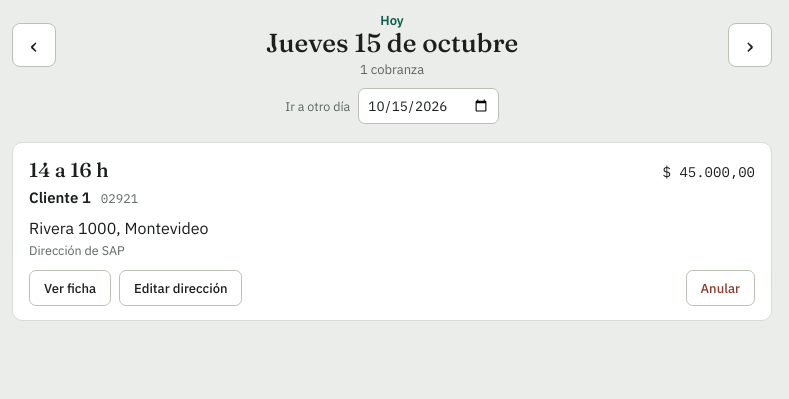
it: CobranzaPage › editar dirección › guarda, muestra la nueva dirección con su origen y devuelve el foco al botón
Click the button "Editar dirección".
click(181, 288)  # box [119,270,242,306]
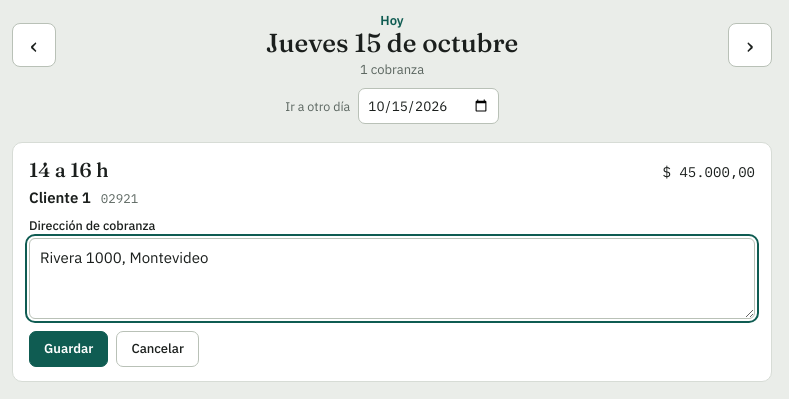
Replace the text in the text box labelled "Dirección de cobranza" with "  Colonia 900, apto 2 " at (392, 278), box [29,238,755,319]
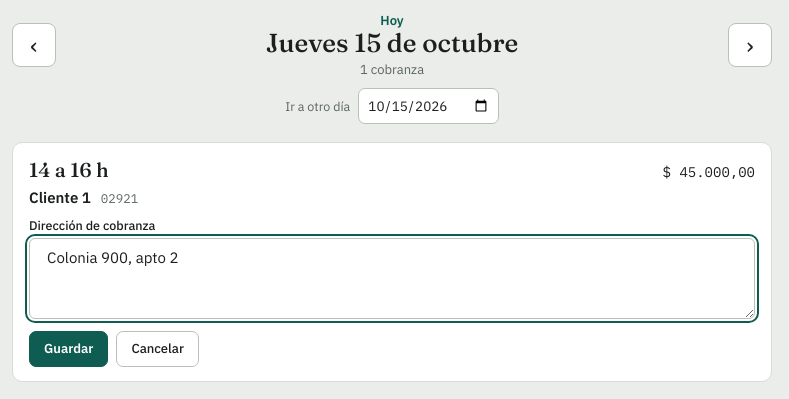
Click the button "Guardar".
click(69, 349)  # box [29,331,108,367]
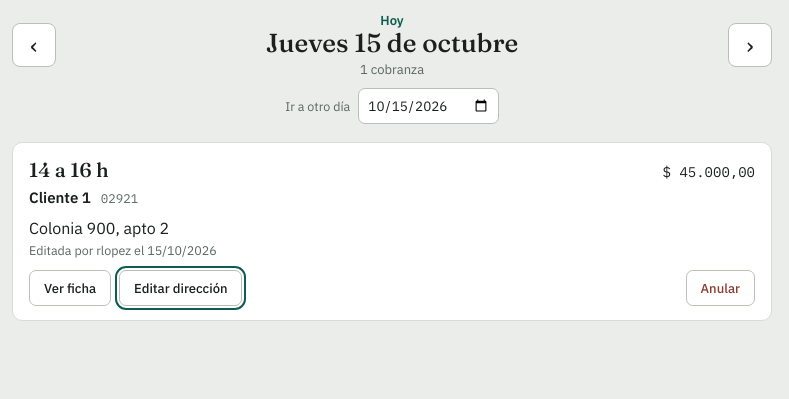
Check: the text "Colonia 900, apto 2" is shown, box [29,218,169,238]
Check: the text "Editada por rlopez el 15/10/2026" is shown, box [29,242,217,258]
Check: the label labelled "Dirección de cobranza" is gone
